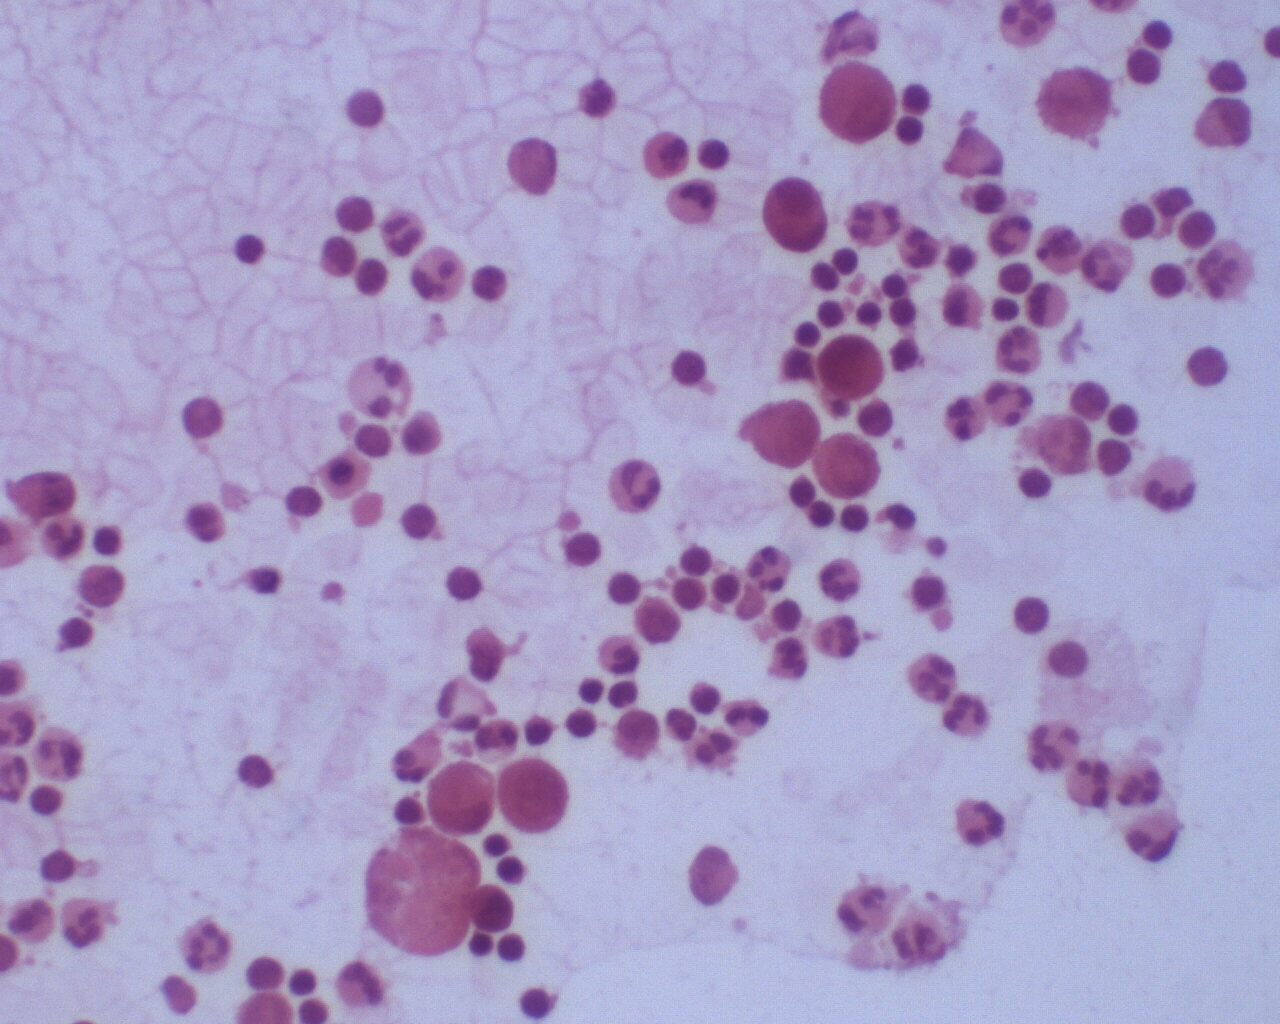ab: (755, 172, 835, 258), (496, 757, 575, 838), (815, 332, 891, 405), (815, 433, 883, 501), (466, 882, 519, 934)
lymph: (408, 238, 469, 302), (377, 204, 432, 259), (233, 748, 285, 796), (34, 843, 83, 888), (398, 501, 445, 544), (331, 188, 374, 236), (670, 345, 713, 392), (1147, 258, 1191, 303), (25, 779, 70, 821), (1010, 594, 1055, 635), (1014, 463, 1058, 504), (562, 702, 604, 744), (1102, 397, 1145, 437), (517, 982, 558, 1023), (445, 562, 485, 602), (678, 542, 722, 578), (607, 568, 644, 610), (233, 230, 271, 270), (285, 964, 324, 1000), (894, 112, 928, 146)
meso: (317, 448, 380, 505)
neutro: (1138, 452, 1205, 515), (176, 909, 234, 976), (604, 453, 665, 516), (902, 650, 964, 706), (994, 322, 1050, 381), (55, 897, 118, 950), (948, 795, 1006, 852), (978, 374, 1037, 430), (37, 509, 92, 565), (1062, 754, 1116, 812), (9, 892, 64, 948), (816, 551, 868, 608), (940, 686, 995, 740), (1037, 219, 1085, 278), (894, 222, 946, 275), (812, 608, 862, 662), (747, 540, 795, 597), (724, 692, 776, 742), (1113, 757, 1164, 807), (942, 392, 990, 445), (598, 634, 644, 678)
